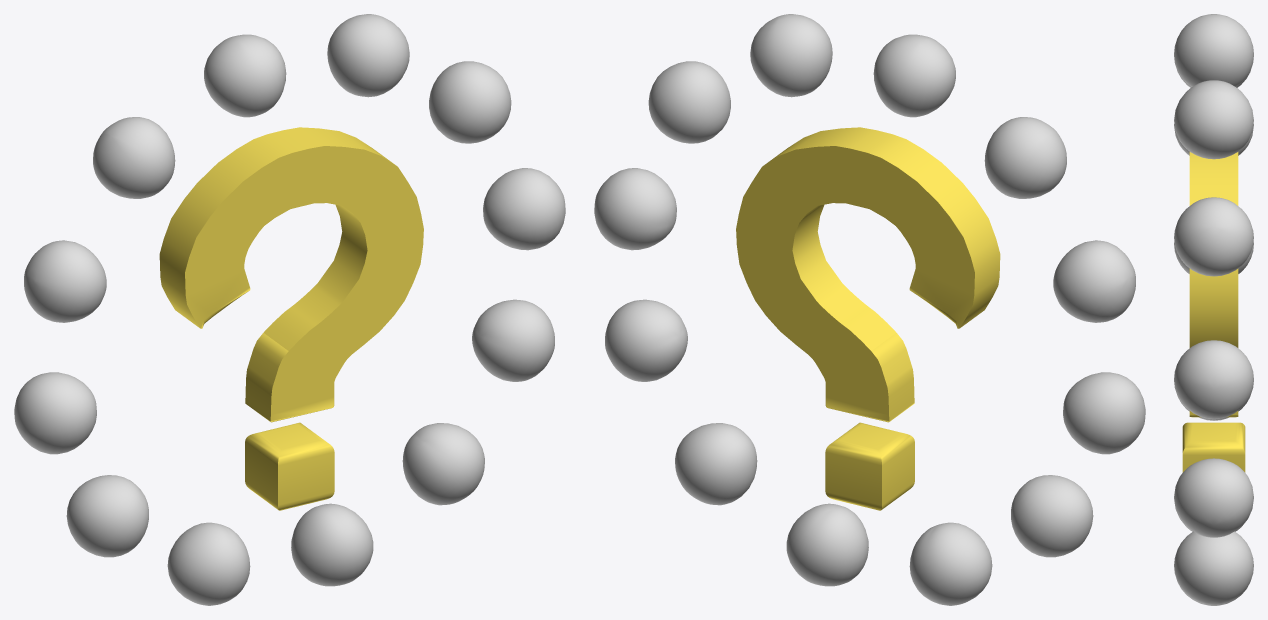
The model's file is HintMarkFBX.fbx.
3 renders of one model, left to right at view 1: azimuth 30°, elevation 25°; view 2: azimuth 150°, elevation 25°; view 3: azimuth 270°, elevation 25°, orthographic. The views are drawn at different scales.
Visible parts, largest first — view 1: Spheres, Mark; view 2: Spheres, Mark; view 3: Spheres, Mark.
Boxes of the visible parts, bbox=[...] form: Spheres: bbox=[14, 14, 565, 605]; Mark: bbox=[159, 127, 423, 510]; Spheres: bbox=[594, 14, 1145, 605]; Mark: bbox=[736, 127, 1000, 510]; Spheres: bbox=[1174, 14, 1253, 605]; Mark: bbox=[1182, 152, 1245, 472].
Size of the model in its own units: 105 by 104 by 13.93.
